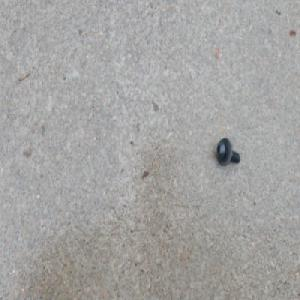BoltWasher: (215, 136, 241, 167)
